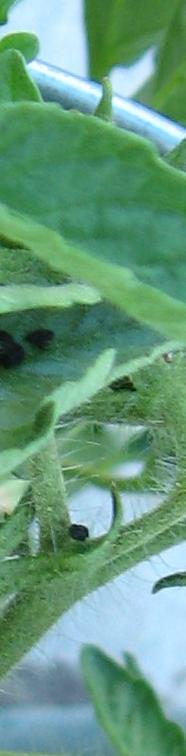Tomato leaf: (0, 113, 186, 446)
